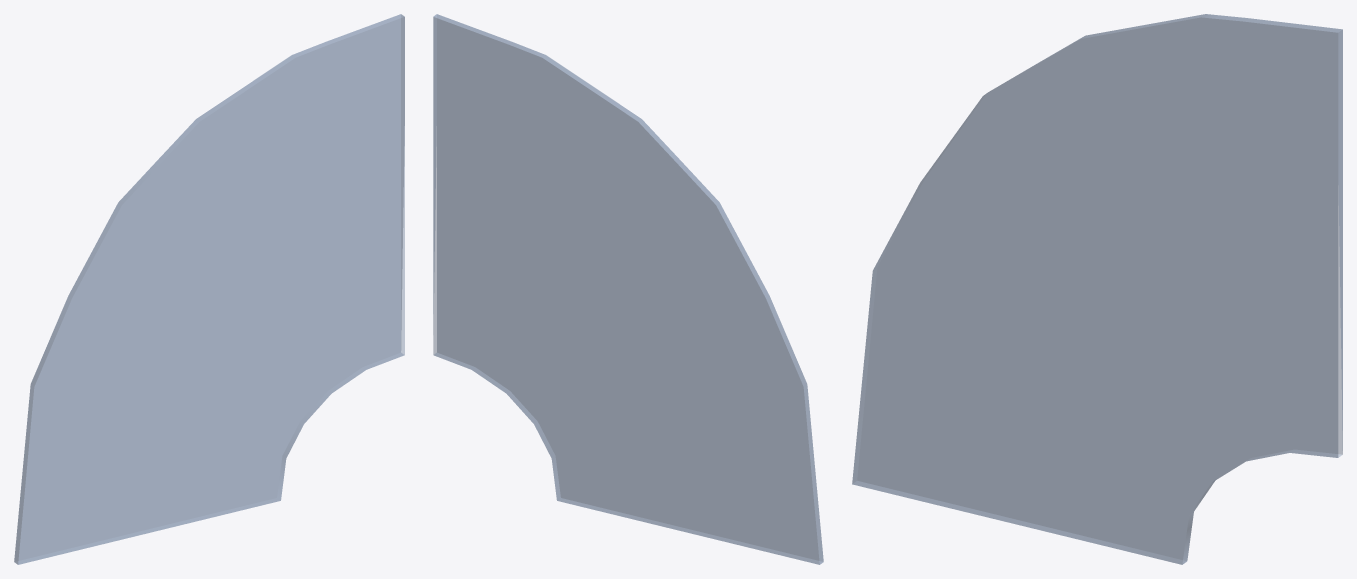
Rendered from Romanglass_front.fbx.
3 views of the same model, side by side, from view 1: azimuth 30°, elevation 25°; view 2: azimuth 150°, elevation 25°; view 3: azimuth 330°, elevation 25° (orthographic). The views are drawn at different scales.
Parts seen in each view (by area): view 1: glass_front; view 2: glass_front; view 3: glass_front.
Part boxes in pixels (<box>): glass_front: <box>14,14,404,564</box>; glass_front: <box>433,14,823,564</box>; glass_front: <box>852,14,1342,564</box>.
Size of the model in its own units: 1157 by 1297 by 20.73.
